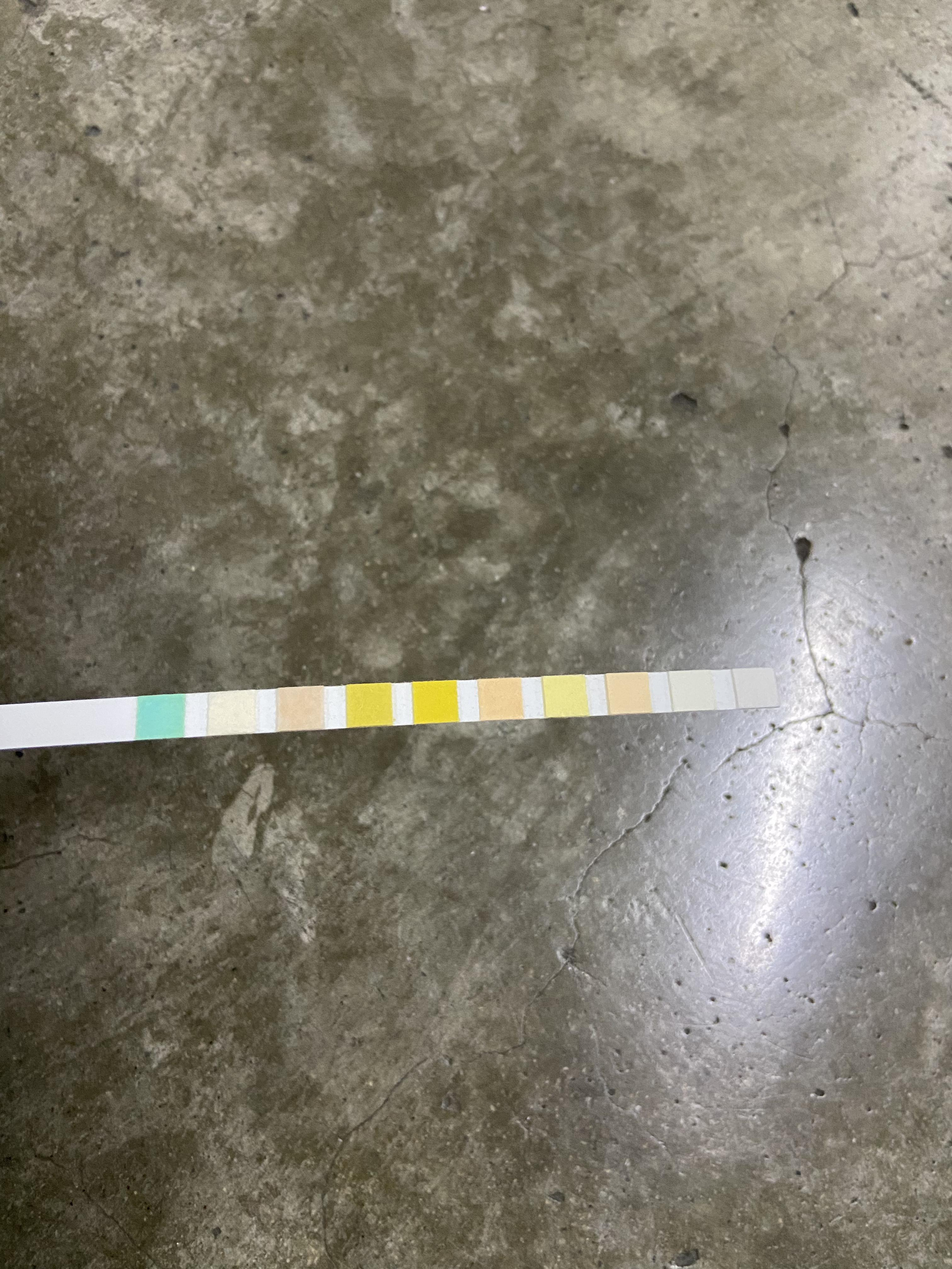Bilirubin: (209, 695, 253, 734)
Blood: (413, 683, 455, 722)
Glucose: (138, 697, 184, 738)
Ketone: (278, 691, 324, 728)
Leukocytes: (739, 671, 775, 707)
Nitrite: (675, 672, 709, 708)
Protein: (549, 677, 587, 715)
SpGravity: (348, 685, 392, 725)
Urobilinogen: (612, 675, 648, 712)
pH: (480, 680, 523, 718)
strip: (1, 667, 781, 750)
